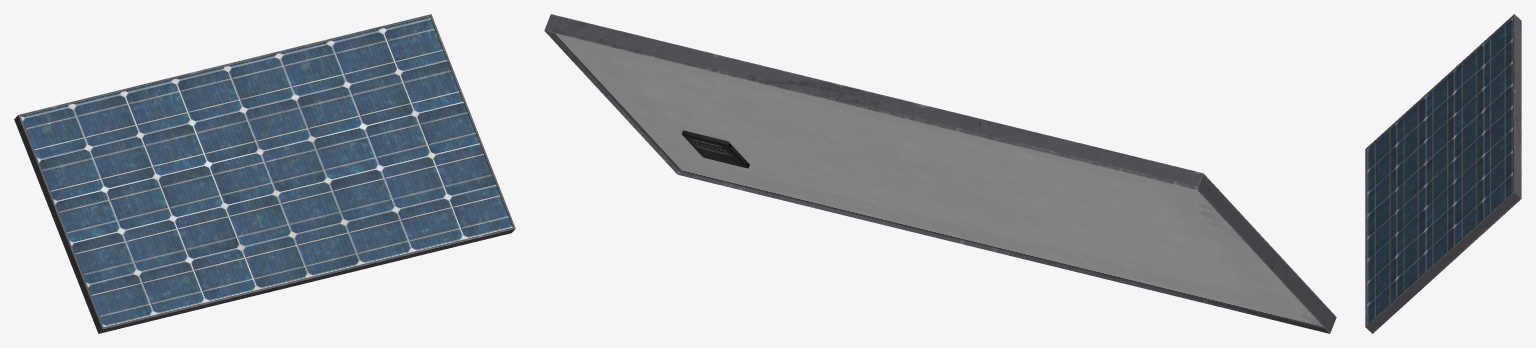
Rendered from solar_panel 1.glb.
3 views of the same model, side by side, from view 1: azimuth 30°, elevation 25°; view 2: azimuth 150°, elevation 25°; view 3: azimuth 270°, elevation 25° (orthographic). The views are drawn at different scales.
Parts seen in each view (by area): view 1: SolarPanel; view 2: SolarPanel; view 3: SolarPanel.
Part boxes in pixels (left/top/right/bottom): SolarPanel: left=14, top=14, right=515, bottom=333; SolarPanel: left=544, top=14, right=1336, bottom=333; SolarPanel: left=1365, top=14, right=1521, bottom=333.
Bounding box in the file's own units: 1.44 × 0.5348 × 0.5348.
2 materials, 2 textured.
